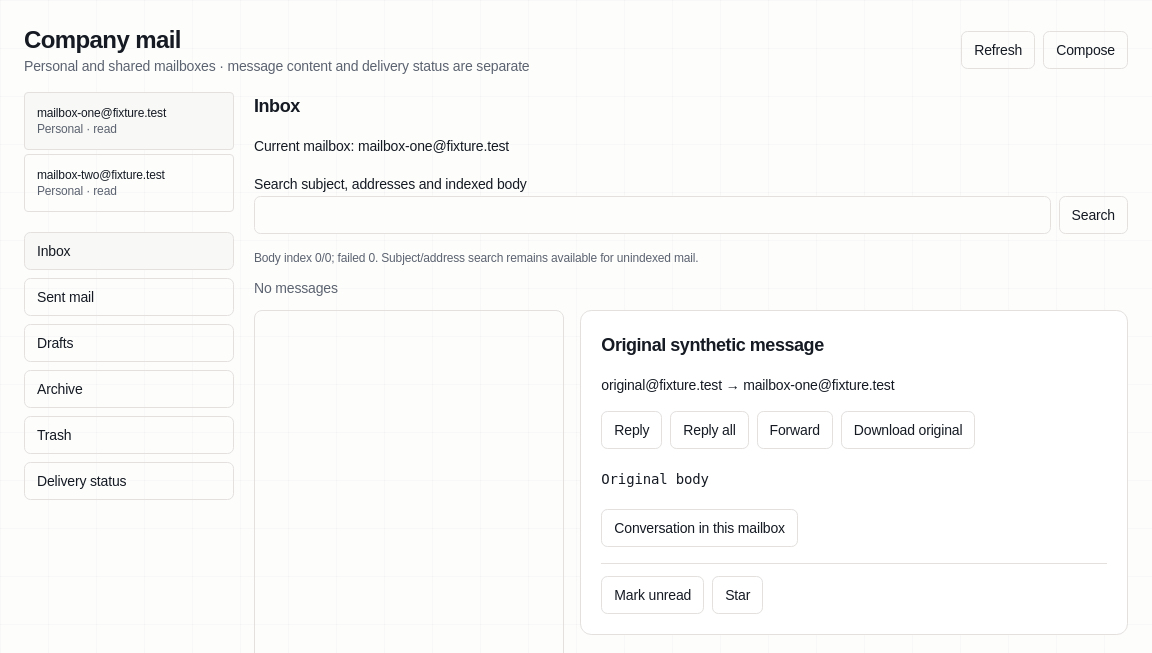
Scenario: editor opening completion ownership › Reply ordinarily opens its prepared editor
Click the button "Reply".
click(632, 430)  # box [601, 411, 662, 449]
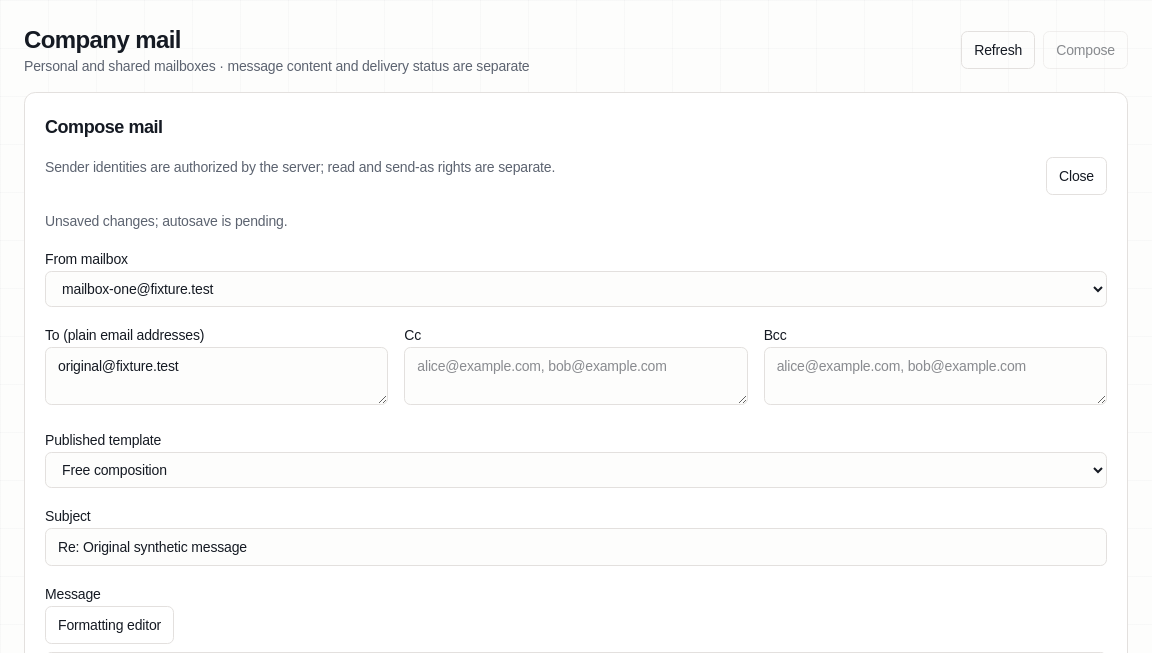
Result: the field labelled "Subject" holds "Re: Original synthetic message" at [45, 528, 1107, 566]
